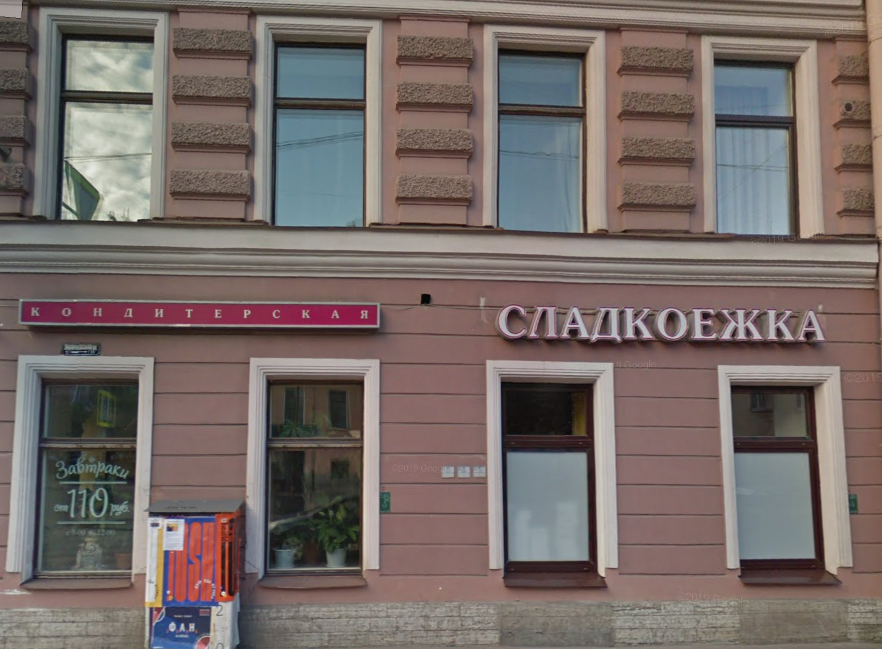signboard: (492, 304, 826, 349), (17, 299, 381, 329)
window: (265, 380, 367, 571), (56, 28, 157, 219), (501, 382, 597, 576), (731, 382, 827, 569), (42, 380, 133, 576), (267, 44, 363, 225), (499, 55, 583, 232), (715, 62, 793, 235)
